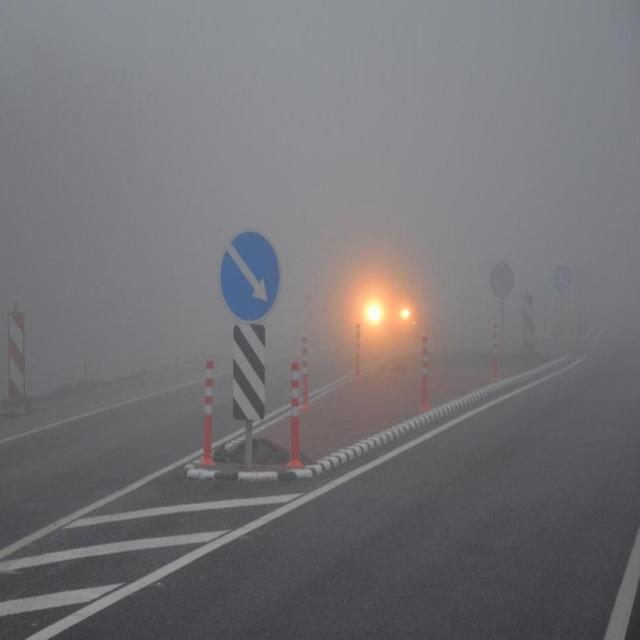car: (360, 267, 431, 347)
